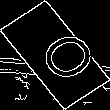O_SW: (18, 22, 92, 88)
